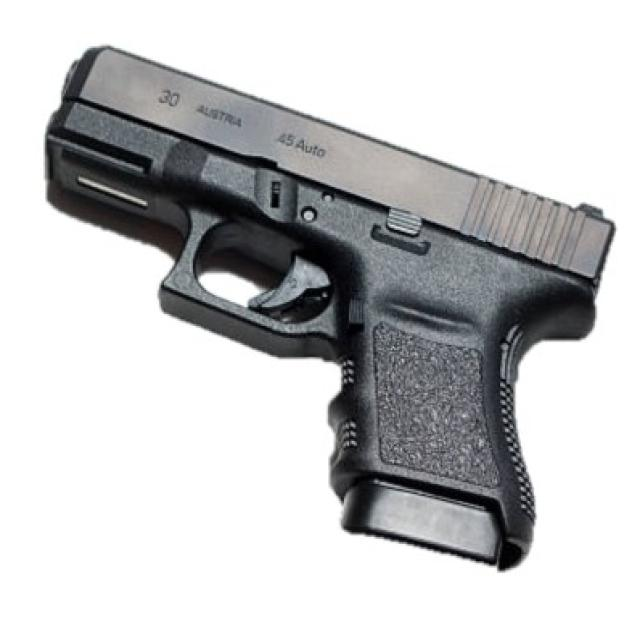pistol: (39, 39, 621, 583)
